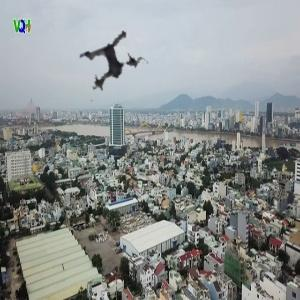drone: (77, 27, 153, 103)
